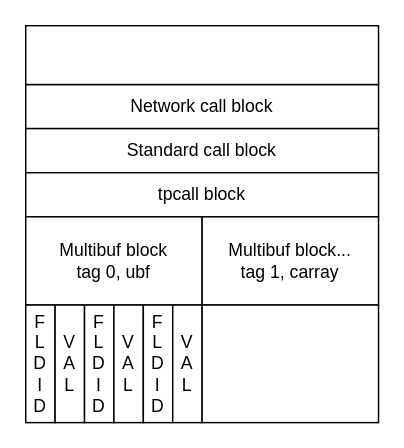
This 404x448 diagram has some shape labels left out. Here are the shapes that lost their labels. From the top down, the box of each, then its label:
(24, 24, 379, 85): 4x message frame bytes
(201, 304, 379, 423): Byte blob
